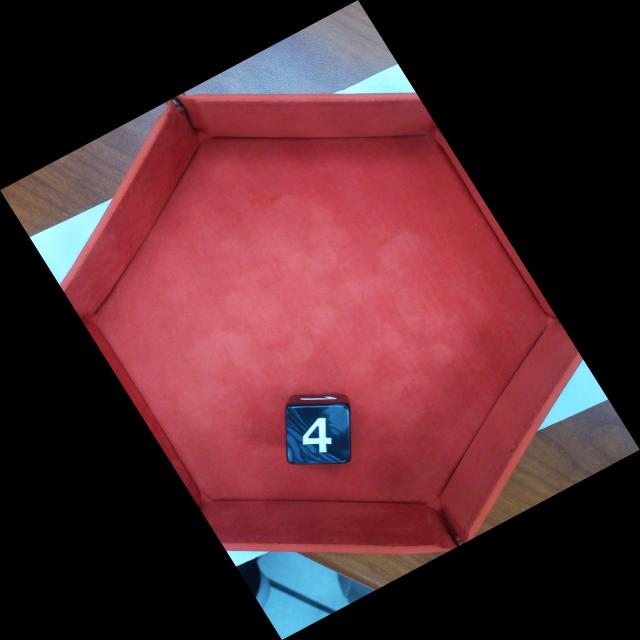dice: (284, 402, 352, 465)
